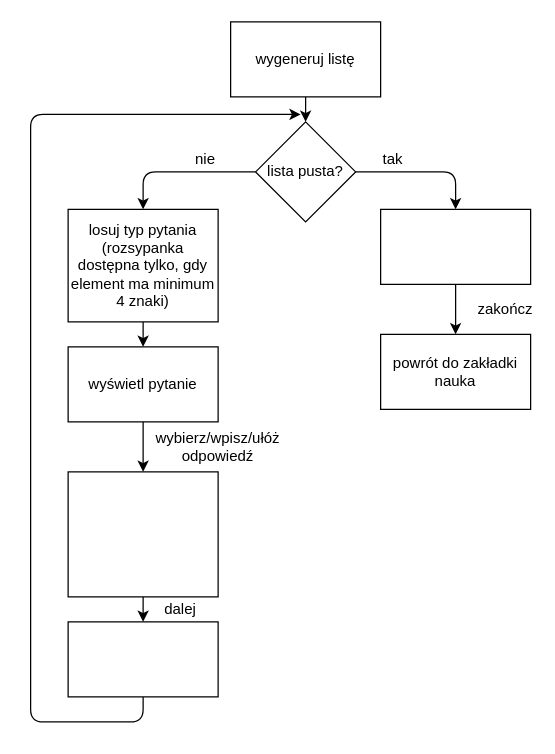
The diagram is 555 pixels wide and 754 high, and some of its shapes have lost their labels. The centre of each missing label's shape, as x and y in pixels:
"podsumowanie" belongs at (x=455, y=246).
"sprawdź odpowiedź, wyświetl poprawną odpowiedź i zaznacz czy wybrano poprawnie" belongs at (x=142, y=534).
"usuń z listy element" belongs at (x=142, y=659).
